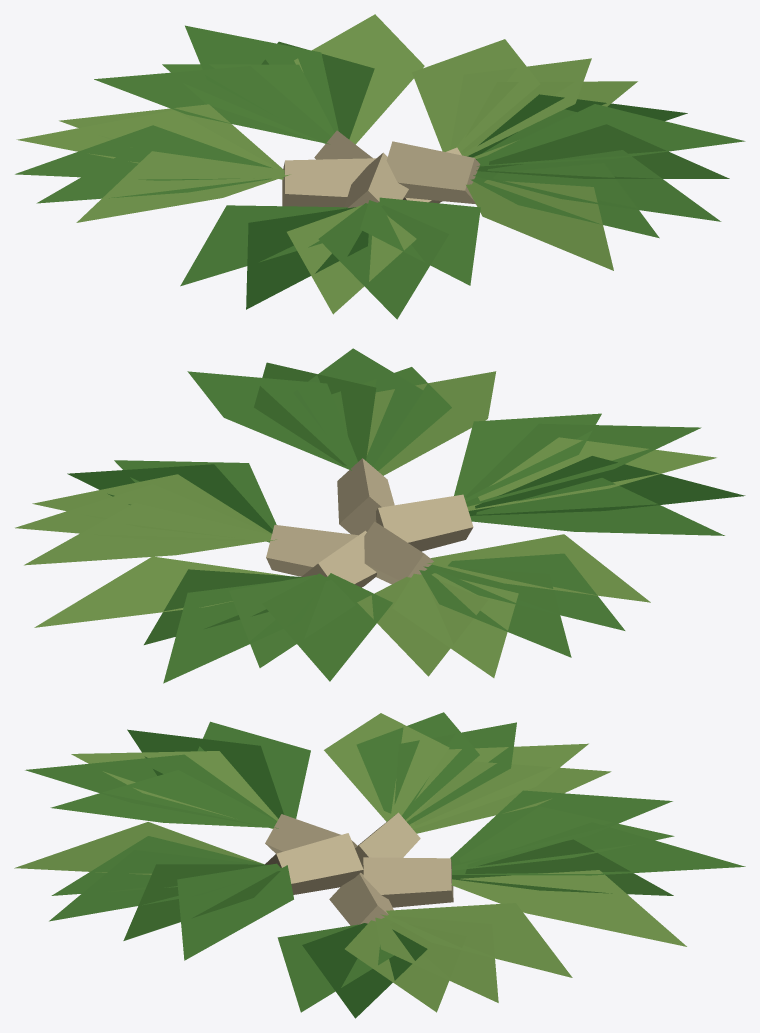
Rendered from storage_wild_vegetables.glb.
3 renders of one model, top to bottom at view 1: azimuth 30°, elevation 25°; view 2: azimuth 150°, elevation 25°; view 3: azimuth 270°, elevation 25°, orthographic. The views are drawn at different scales.
Parts seen in each view (by area): view 1: storage_wild_vegetables; view 2: storage_wild_vegetables; view 3: storage_wild_vegetables.
Part boxes in pixels (x1,y1,x2,y2): storage_wild_vegetables: (15, 14, 745, 319); storage_wild_vegetables: (15, 348, 745, 683); storage_wild_vegetables: (14, 712, 745, 1018).
Size of the model in its own units: 1.38 by 0.2339 by 1.51.
